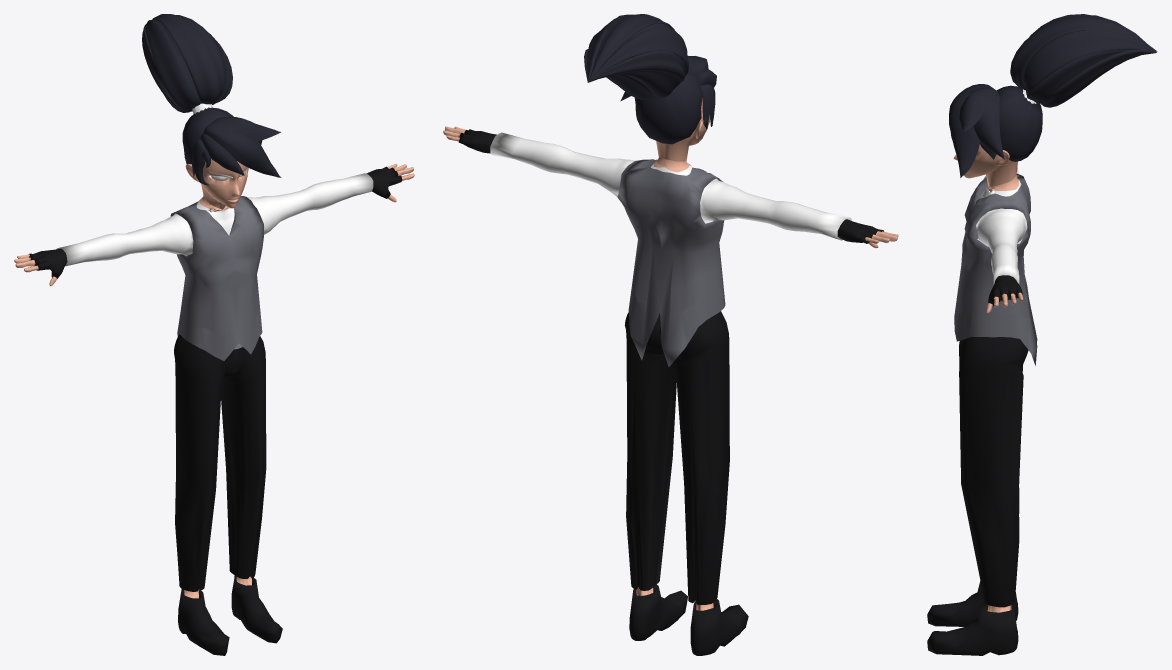
The model's file is Yuetsu v3 test.fbx.
The picture shows the model from 3 angles, left to right: view 1: azimuth 30°, elevation 25°; view 2: azimuth 150°, elevation 25°; view 3: azimuth 270°, elevation 25°; orthographic projection. The views are drawn at different scales.
Visible parts, largest first — view 1: Corps.001; view 2: Corps.001; view 3: Corps.001.
Boxes of the visible parts, x1,y1,x2,y2 form: Corps.001: (14, 14, 414, 655); Corps.001: (443, 14, 898, 655); Corps.001: (927, 14, 1157, 655).
Bounding box in the file's own units: 12276 × 16984 × 5735.
